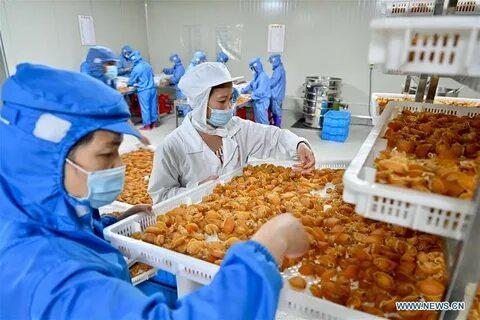mask: (70, 147, 133, 208), (206, 93, 242, 136)
